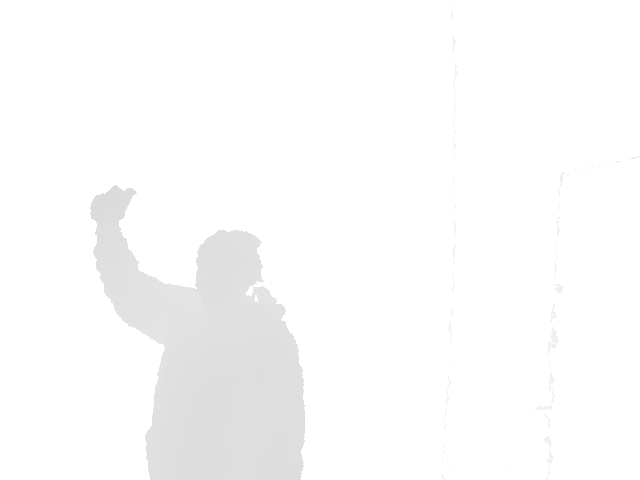hand: (88, 184, 137, 222)
head: (195, 229, 264, 304)
person: (89, 184, 307, 479)
